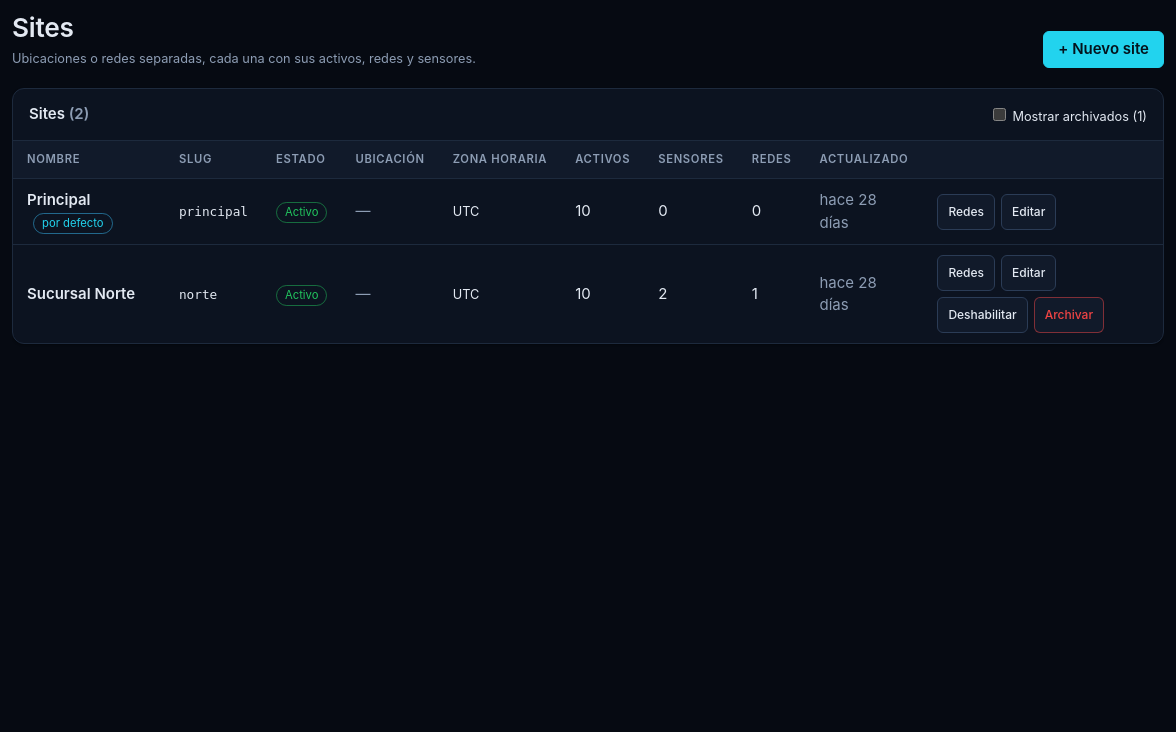
it: SitesPage › admin: muestra legibles los errores de red inválida y solapada
This screenshot has width=1176, height=732.
Click the button with aria-label "Redes de Sucursal Norte" at (966, 273), box [937,255,995,291]
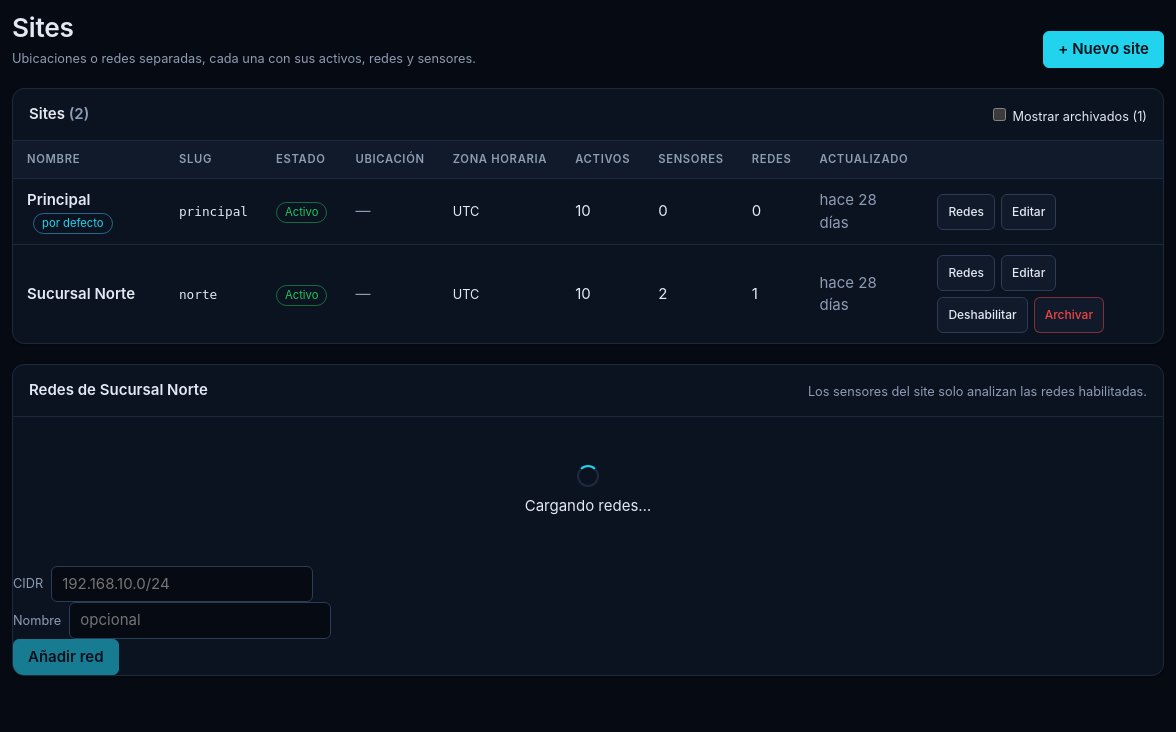
Type "10.20.0.1/24" into the field labelled "CIDR" at (182, 584), box [51,566,313,602]
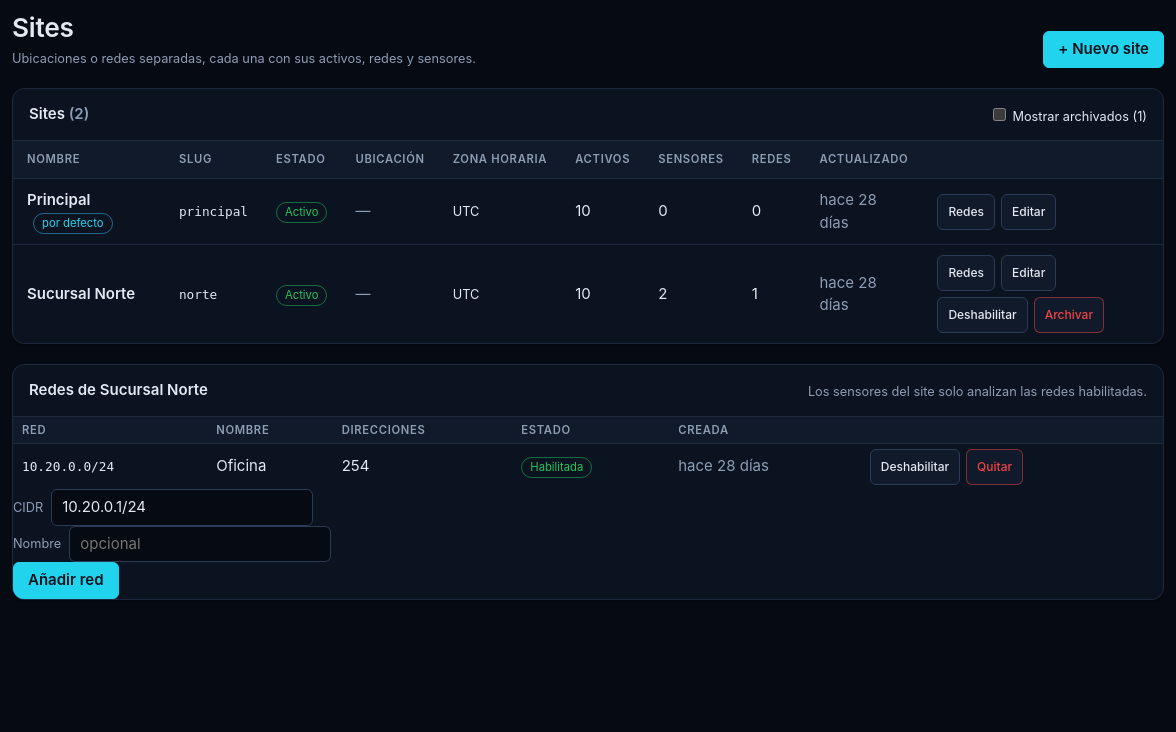
Click the button "Añadir red" at (66, 580), box [13,562,119,599]
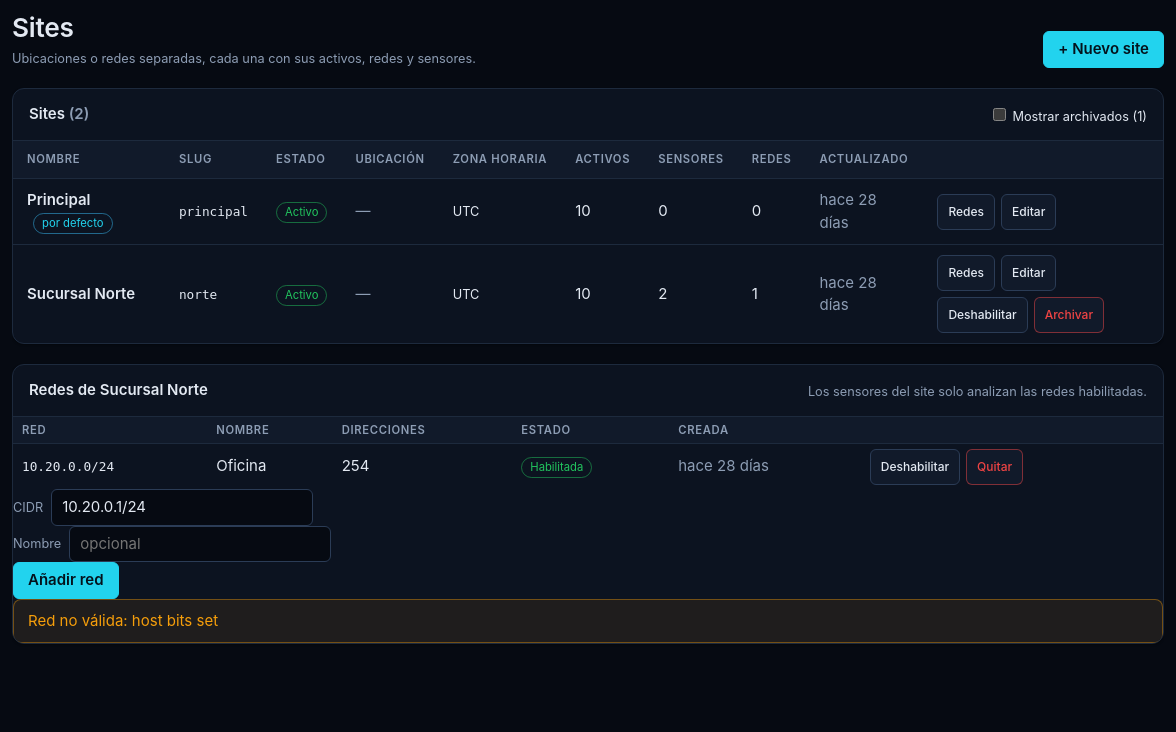
Expected: the text "Red no válida: host bits set" is shown, [13,599,1163,643]
Replace the text in the field labelled "CIDR" with "10.20.0.0/25" at (182, 507), box [51,489,313,526]
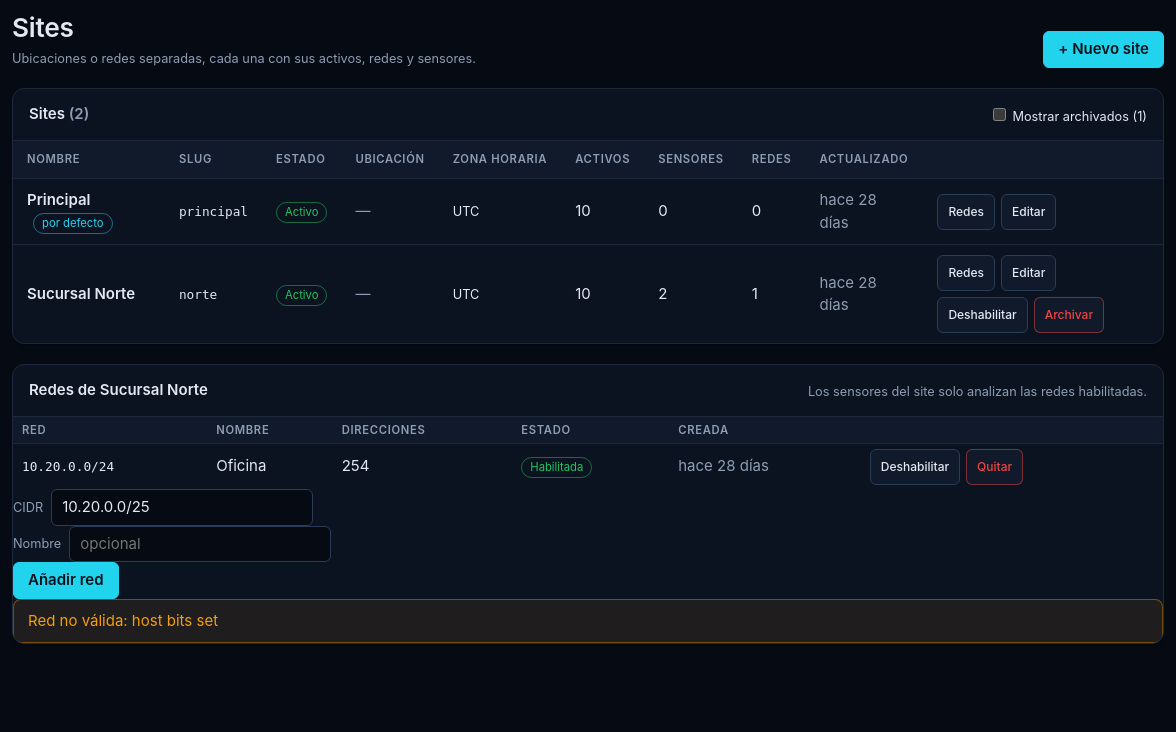
Click the button "Añadir red" at (66, 580), box [13,562,119,599]
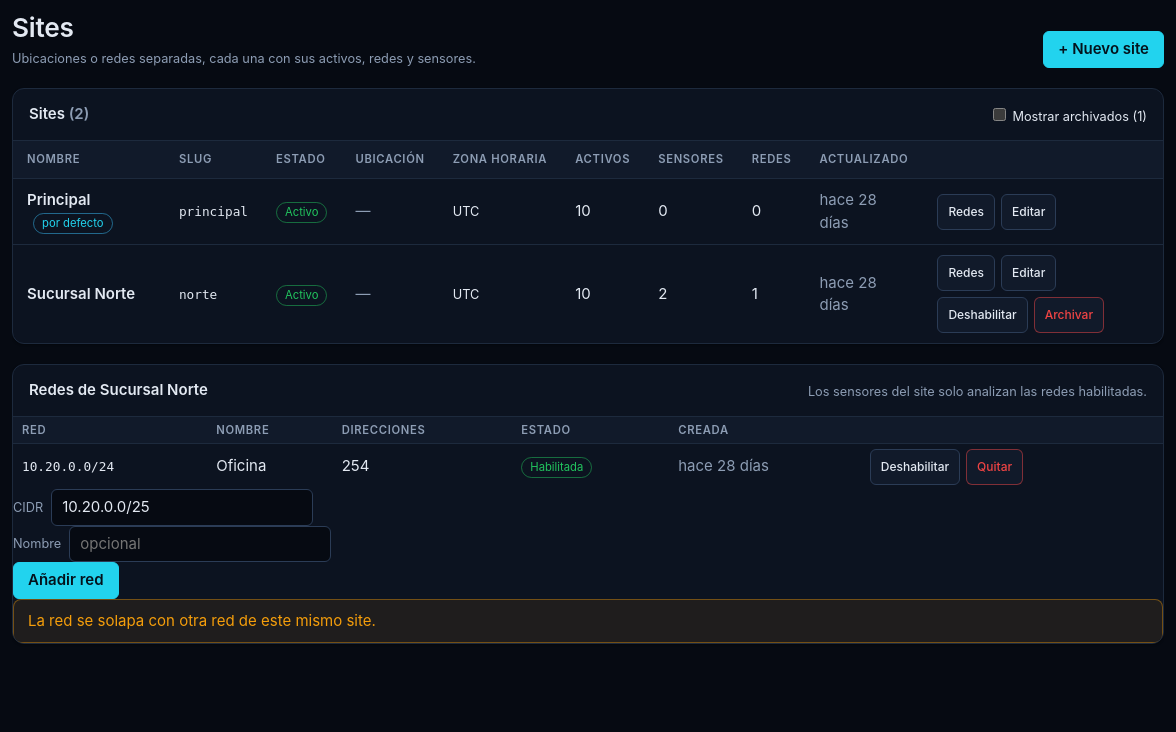
Expected: the text "La red se solapa con otra red de este mismo site." is shown, [13,599,1163,643]
